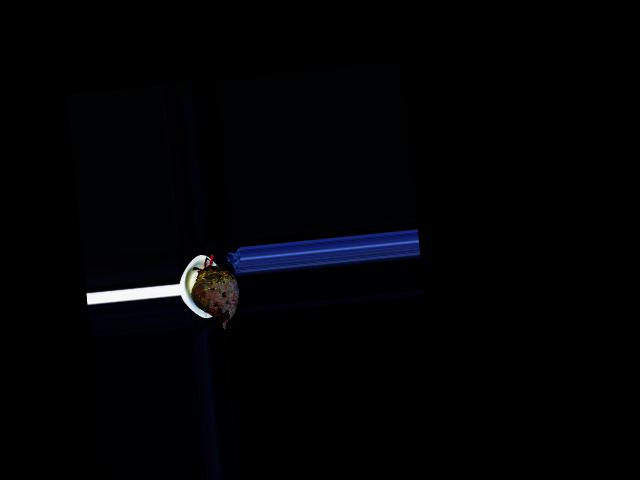beet: (187, 251, 241, 331)
